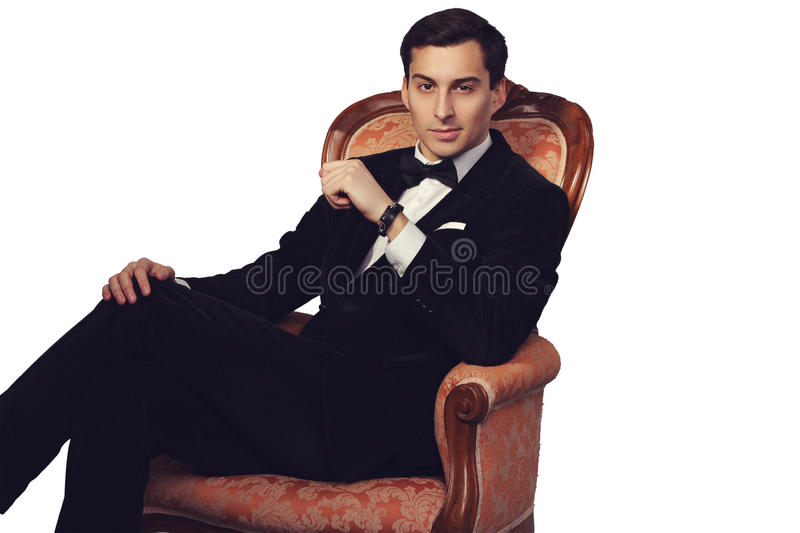chairs: (129, 81, 598, 533)
